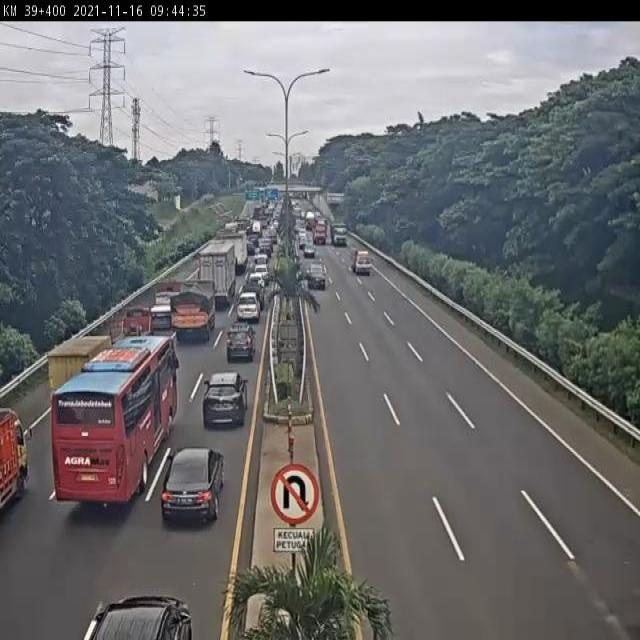big bus: (55, 342, 179, 506)
car: (162, 449, 223, 527), (203, 371, 247, 428), (225, 322, 254, 362), (236, 295, 258, 325), (242, 284, 265, 307), (247, 270, 266, 290)
small truck: (46, 339, 113, 409), (151, 281, 186, 331), (111, 305, 151, 347)
truck-l-: (195, 239, 237, 304)
truck-m-: (169, 284, 215, 340), (222, 236, 248, 272)
